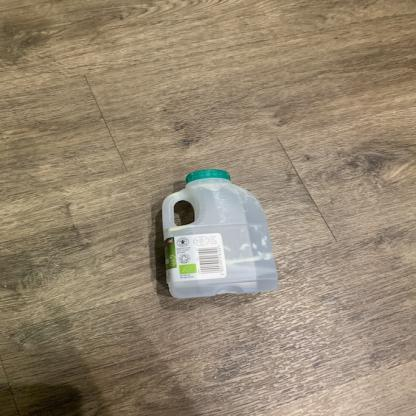trash: (159, 171, 281, 299)
